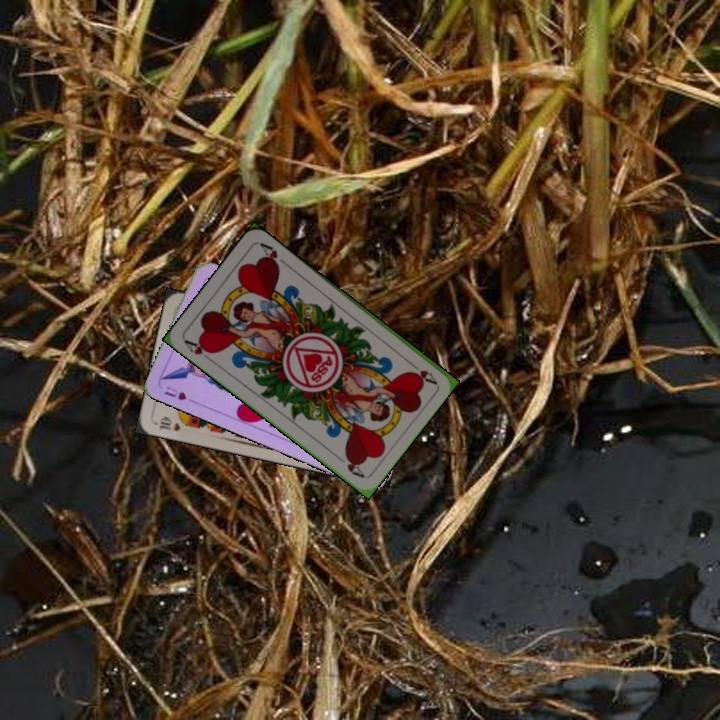HA: (180, 336, 216, 365), (403, 357, 438, 386)
HU: (160, 382, 189, 403)
S10: (155, 413, 183, 434)
